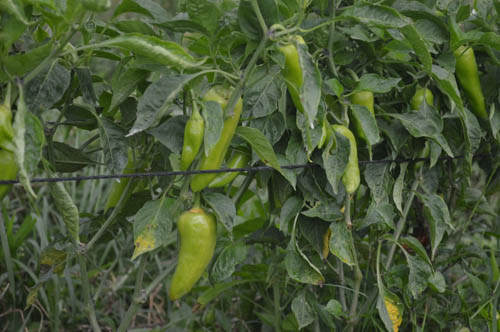ChiliPepper: (192, 91, 239, 191), (172, 213, 214, 302), (457, 47, 488, 119), (328, 126, 362, 189), (279, 46, 309, 111), (346, 87, 378, 141), (210, 153, 250, 195), (180, 118, 203, 171), (409, 86, 435, 120)
